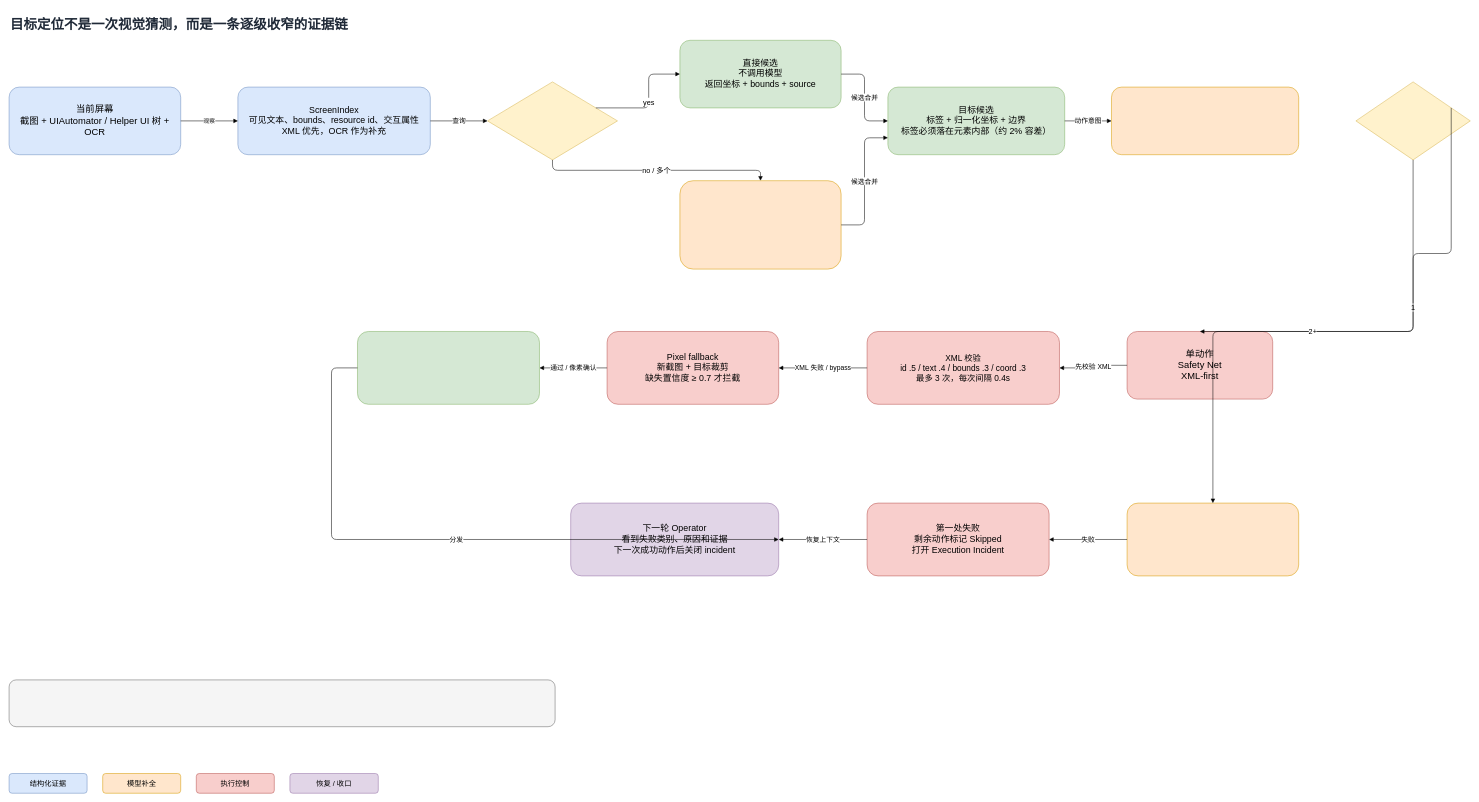
Some shapes in this 1479 by 802 pixel diagram are drawn without their labels. Here are the shapes that lost their labels. From the top down, the box of each, then its label:
(487, 81, 618, 160): 唯一精确匹配？
(1111, 87, 1299, 155): Operator 动作 索引目标 → 归一化 [0,1000] 坐标 坐标目标必须带 target_description
(1355, 81, 1470, 160): 动作数量？
(679, 180, 841, 269): Explorer 分层 Flash：1 回合 Pro：最多 3 回合 Ultra：最多 8 回合 + OCR / 图像工具
(357, 331, 540, 404): 通过后分发 普通动作失败最多本地重试 2 次 Safety Net 只保证目标仍像原来
(1127, 503, 1299, 576): Burst 2+ 动作连续发送 无 Safety Net、无中间截图、无重试
(9, 679, 555, 727): 注意：Validator 的成功含义是命令已分发，不等同于业务效果已确认；最终效果由下一帧、Operator 和 Checker 共同判断。
